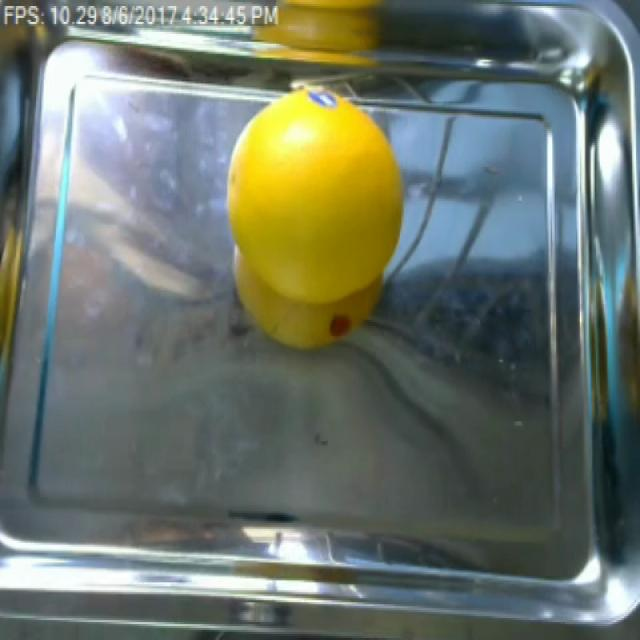Fruit: (223, 85, 408, 358), (250, 0, 413, 70)
